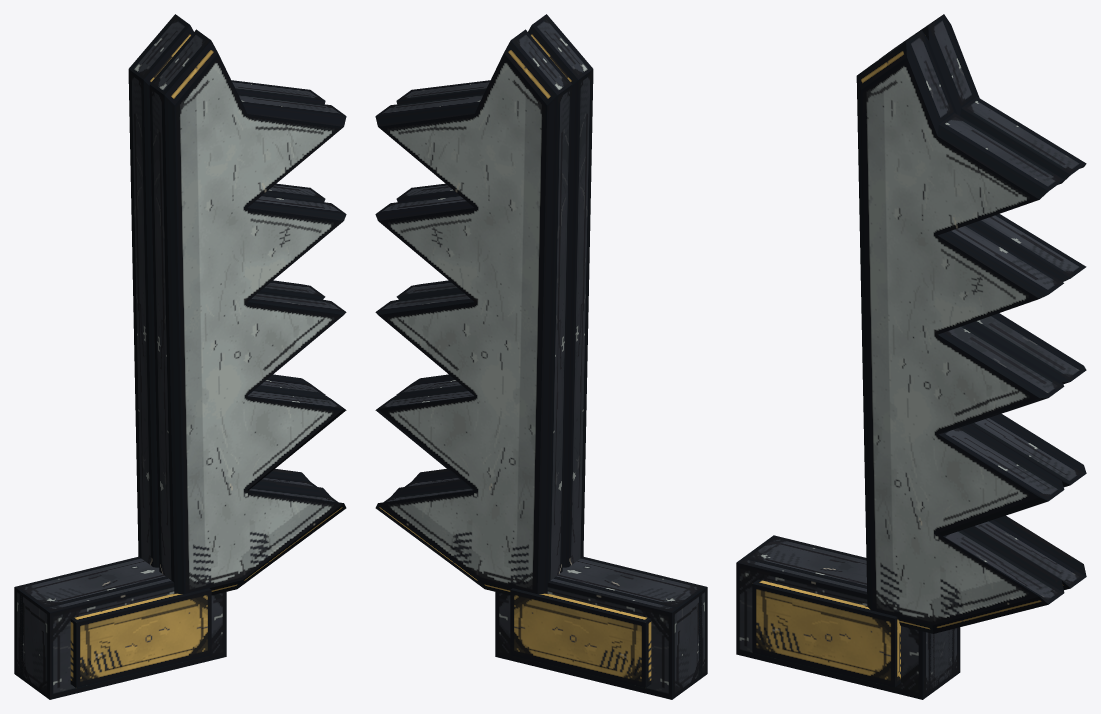
File: accessory_serrated_edge.glb
The picture shows the model from 3 angles, left to right: view 1: azimuth 30°, elevation 25°; view 2: azimuth 150°, elevation 25°; view 3: azimuth 330°, elevation 25°; orthographic projection. The views are drawn at different scales.
Parts seen in each view (by area): view 1: FACE_FRONT, FACE_BACK; view 2: FACE_BACK, FACE_FRONT; view 3: FACE_FRONT, FACE_BACK.
Part boxes in pixels (<box>): FACE_FRONT: <box>14,29,346,687</box>; FACE_BACK: <box>19,14,325,699</box>; FACE_BACK: <box>375,29,707,691</box>; FACE_FRONT: <box>396,14,702,699</box>; FACE_FRONT: <box>742,30,1064,694</box>; FACE_BACK: <box>736,14,1086,699</box>.
Size of the model in its own units: 0.285 by 0.57 by 0.078.
Materials: 1 (1 with a texture image).
